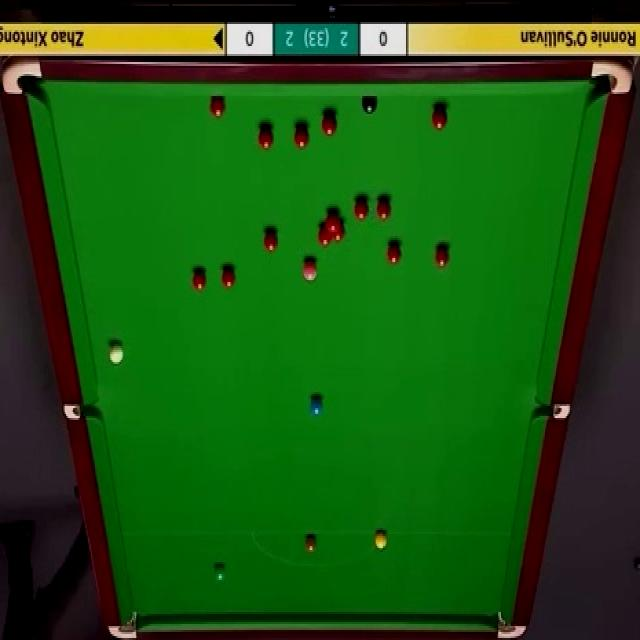black-ball: (361, 95, 378, 114)
blue-ball: (310, 395, 324, 420)
brown-ball: (305, 534, 317, 552)
green-ball: (213, 562, 228, 582)
pink-ball: (302, 258, 317, 286)
red-ball: (220, 262, 237, 291), (431, 106, 448, 131), (258, 125, 274, 151), (210, 95, 226, 119), (376, 198, 392, 222), (294, 124, 309, 149), (264, 228, 279, 253), (387, 240, 402, 264), (435, 244, 450, 268), (192, 266, 207, 290), (322, 112, 336, 137), (354, 197, 368, 221), (318, 222, 332, 246), (326, 210, 339, 230), (332, 222, 345, 242)
white-ball: (107, 340, 125, 368)
yellow-ball: (375, 531, 388, 551)
